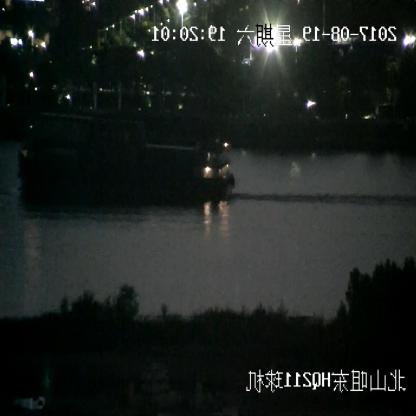Container Ship: (20, 121, 230, 214)
